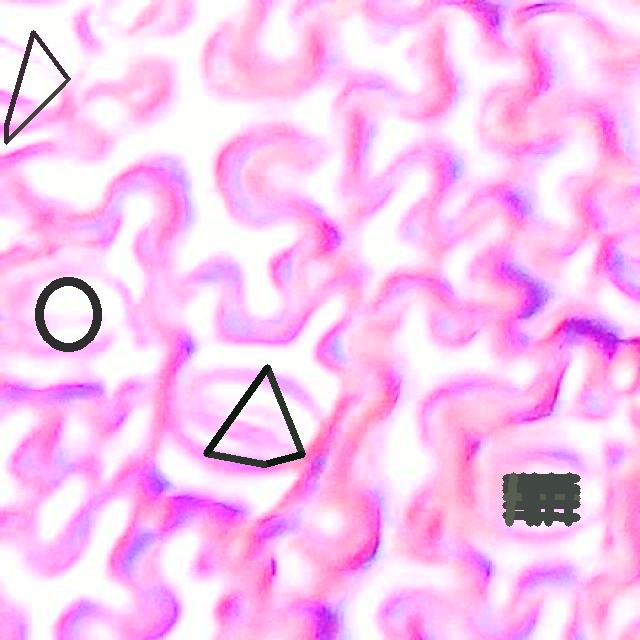close: (203, 364, 305, 467), (34, 276, 101, 353), (503, 473, 580, 525)
open: (5, 31, 70, 144)
